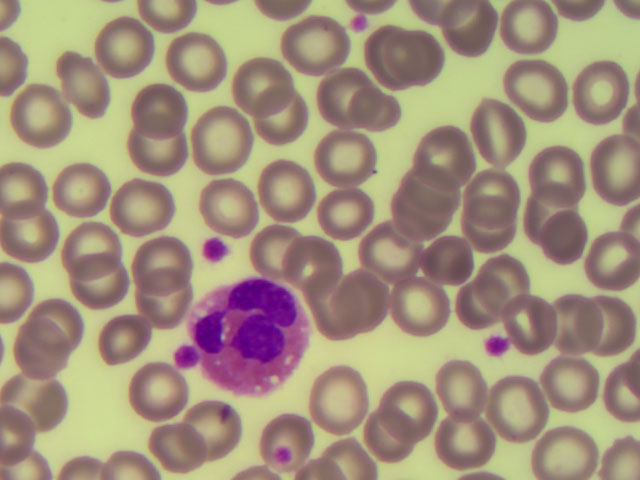Platelets: (201, 232, 227, 265), (482, 331, 511, 357), (174, 347, 198, 368), (346, 15, 373, 32)
RBC: (531, 422, 592, 480), (56, 54, 117, 111), (15, 89, 76, 146), (90, 16, 151, 73), (161, 32, 222, 89), (129, 74, 190, 131), (125, 124, 186, 181), (197, 109, 258, 166), (224, 55, 285, 112), (257, 92, 318, 149), (280, 12, 341, 69), (303, 62, 364, 119), (324, 76, 385, 133), (365, 27, 426, 84), (392, 32, 453, 89), (439, 2, 500, 59), (508, 62, 569, 119), (570, 64, 631, 121), (579, 138, 640, 195), (525, 141, 586, 198), (509, 175, 570, 232), (529, 208, 590, 265), (579, 237, 640, 294), (459, 194, 520, 251), (455, 160, 516, 217), (457, 105, 518, 162), (422, 123, 483, 180), (399, 159, 460, 216), (385, 179, 446, 236), (356, 229, 417, 286), (335, 286, 396, 343), (298, 287, 359, 344), (276, 231, 337, 288), (248, 218, 309, 275), (316, 184, 377, 241), (311, 129, 372, 186), (261, 162, 322, 219), (194, 178, 255, 235), (116, 180, 177, 237), (53, 160, 114, 217), (8, 204, 69, 261), (6, 160, 67, 217), (60, 215, 121, 272), (80, 258, 141, 315), (137, 225, 198, 282), (144, 280, 205, 337), (100, 302, 161, 359), (37, 295, 98, 352), (18, 320, 79, 377), (2, 370, 63, 427), (121, 363, 182, 420), (144, 413, 205, 470), (182, 394, 243, 451), (255, 409, 316, 466), (309, 373, 370, 430), (358, 406, 419, 463), (380, 382, 441, 439), (428, 360, 489, 417), (443, 409, 504, 466), (504, 377, 565, 434), (544, 364, 605, 421), (544, 293, 605, 350), (578, 300, 639, 357), (494, 295, 555, 352), (477, 256, 538, 313), (449, 281, 510, 338), (400, 284, 461, 341), (417, 237, 478, 294), (495, 1, 556, 57), (441, 1, 502, 57)
WBC: (192, 283, 311, 393)
